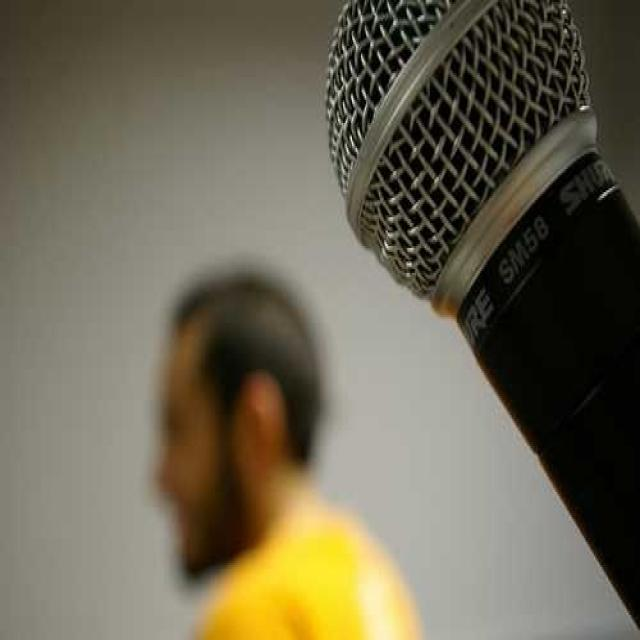microphone: (331, 10, 640, 632)
